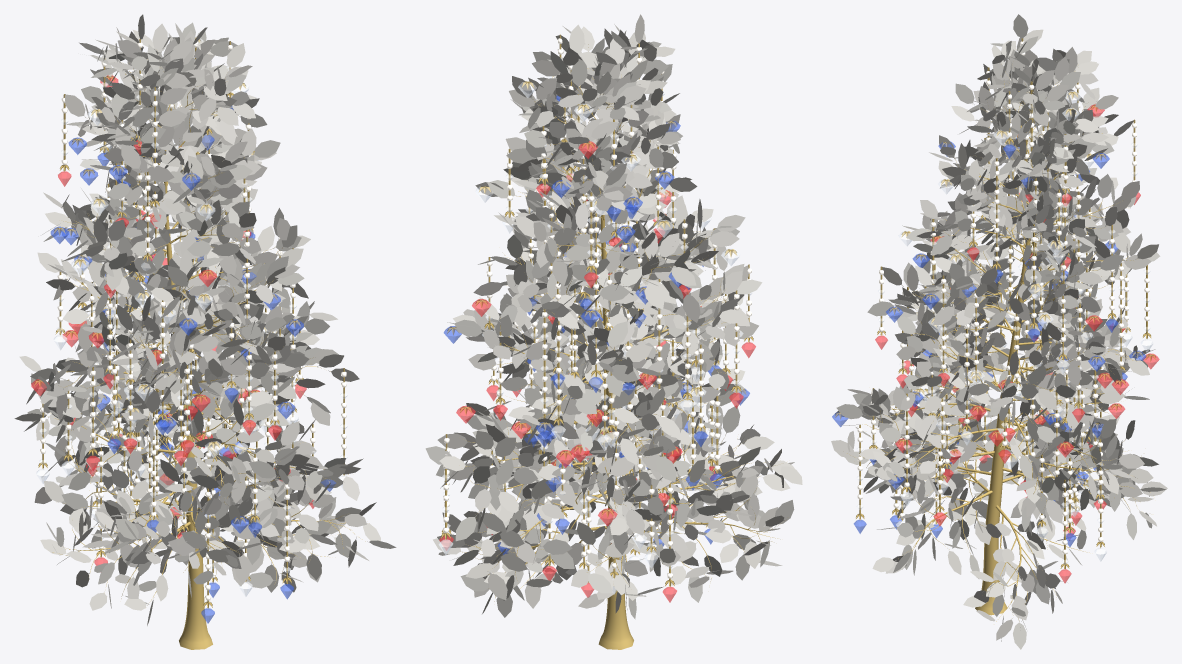
The model's file is houju_tree.glb.
The picture shows the model from 3 angles, left to right: view 1: azimuth 30°, elevation 25°; view 2: azimuth 150°, elevation 25°; view 3: azimuth 270°, elevation 25°; orthographic projection. The views are drawn at different scales.
Parts seen in each view (by area): view 1: Leaves, pearl_batch, hari_batch, lapis_batch, gold_wire, shuju_batch, gold_fitting, Branches2, Trunk, Branches1; view 2: Leaves, pearl_batch, hari_batch, gold_wire, shuju_batch, lapis_batch, gold_fitting, Branches2, Trunk, Branches1; view 3: Leaves, hari_batch, pearl_batch, gold_wire, Branches2, shuju_batch, lapis_batch, gold_fitting, Branches1, Trunk.
Boxes of the visible parts, x1,y1,x2,y2 form: Leaves: [14, 14, 396, 625]; pearl_batch: [40, 42, 346, 600]; hari_batch: [36, 36, 347, 596]; lapis_batch: [50, 106, 335, 623]; gold_wire: [42, 38, 344, 607]; shuju_batch: [31, 75, 314, 565]; gold_fitting: [34, 37, 348, 608]; Branches2: [45, 71, 365, 605]; Trunk: [164, 150, 212, 649]; Branches1: [50, 69, 345, 563]; Leaves: [425, 14, 802, 619]; pearl_batch: [443, 38, 751, 578]; hari_batch: [439, 76, 752, 594]; gold_wire: [445, 34, 749, 586]; shuju_batch: [439, 141, 755, 602]; lapis_batch: [444, 95, 749, 554]; gold_fitting: [441, 76, 753, 586]; Branches2: [460, 44, 778, 601]; Trunk: [598, 215, 633, 649]; Branches1: [469, 70, 767, 564]; Leaves: [831, 14, 1167, 649]; hari_batch: [856, 90, 1153, 564]; pearl_batch: [857, 41, 1149, 554]; gold_wire: [859, 38, 1147, 568]; Branches2: [847, 71, 1150, 621]; shuju_batch: [875, 104, 1159, 583]; lapis_batch: [832, 138, 1146, 546]; gold_fitting: [835, 91, 1155, 569]; Branches1: [864, 84, 1135, 608]; Trunk: [975, 118, 1031, 615].
Size of the model in its own units: 4.55 by 8.5 by 4.5.
